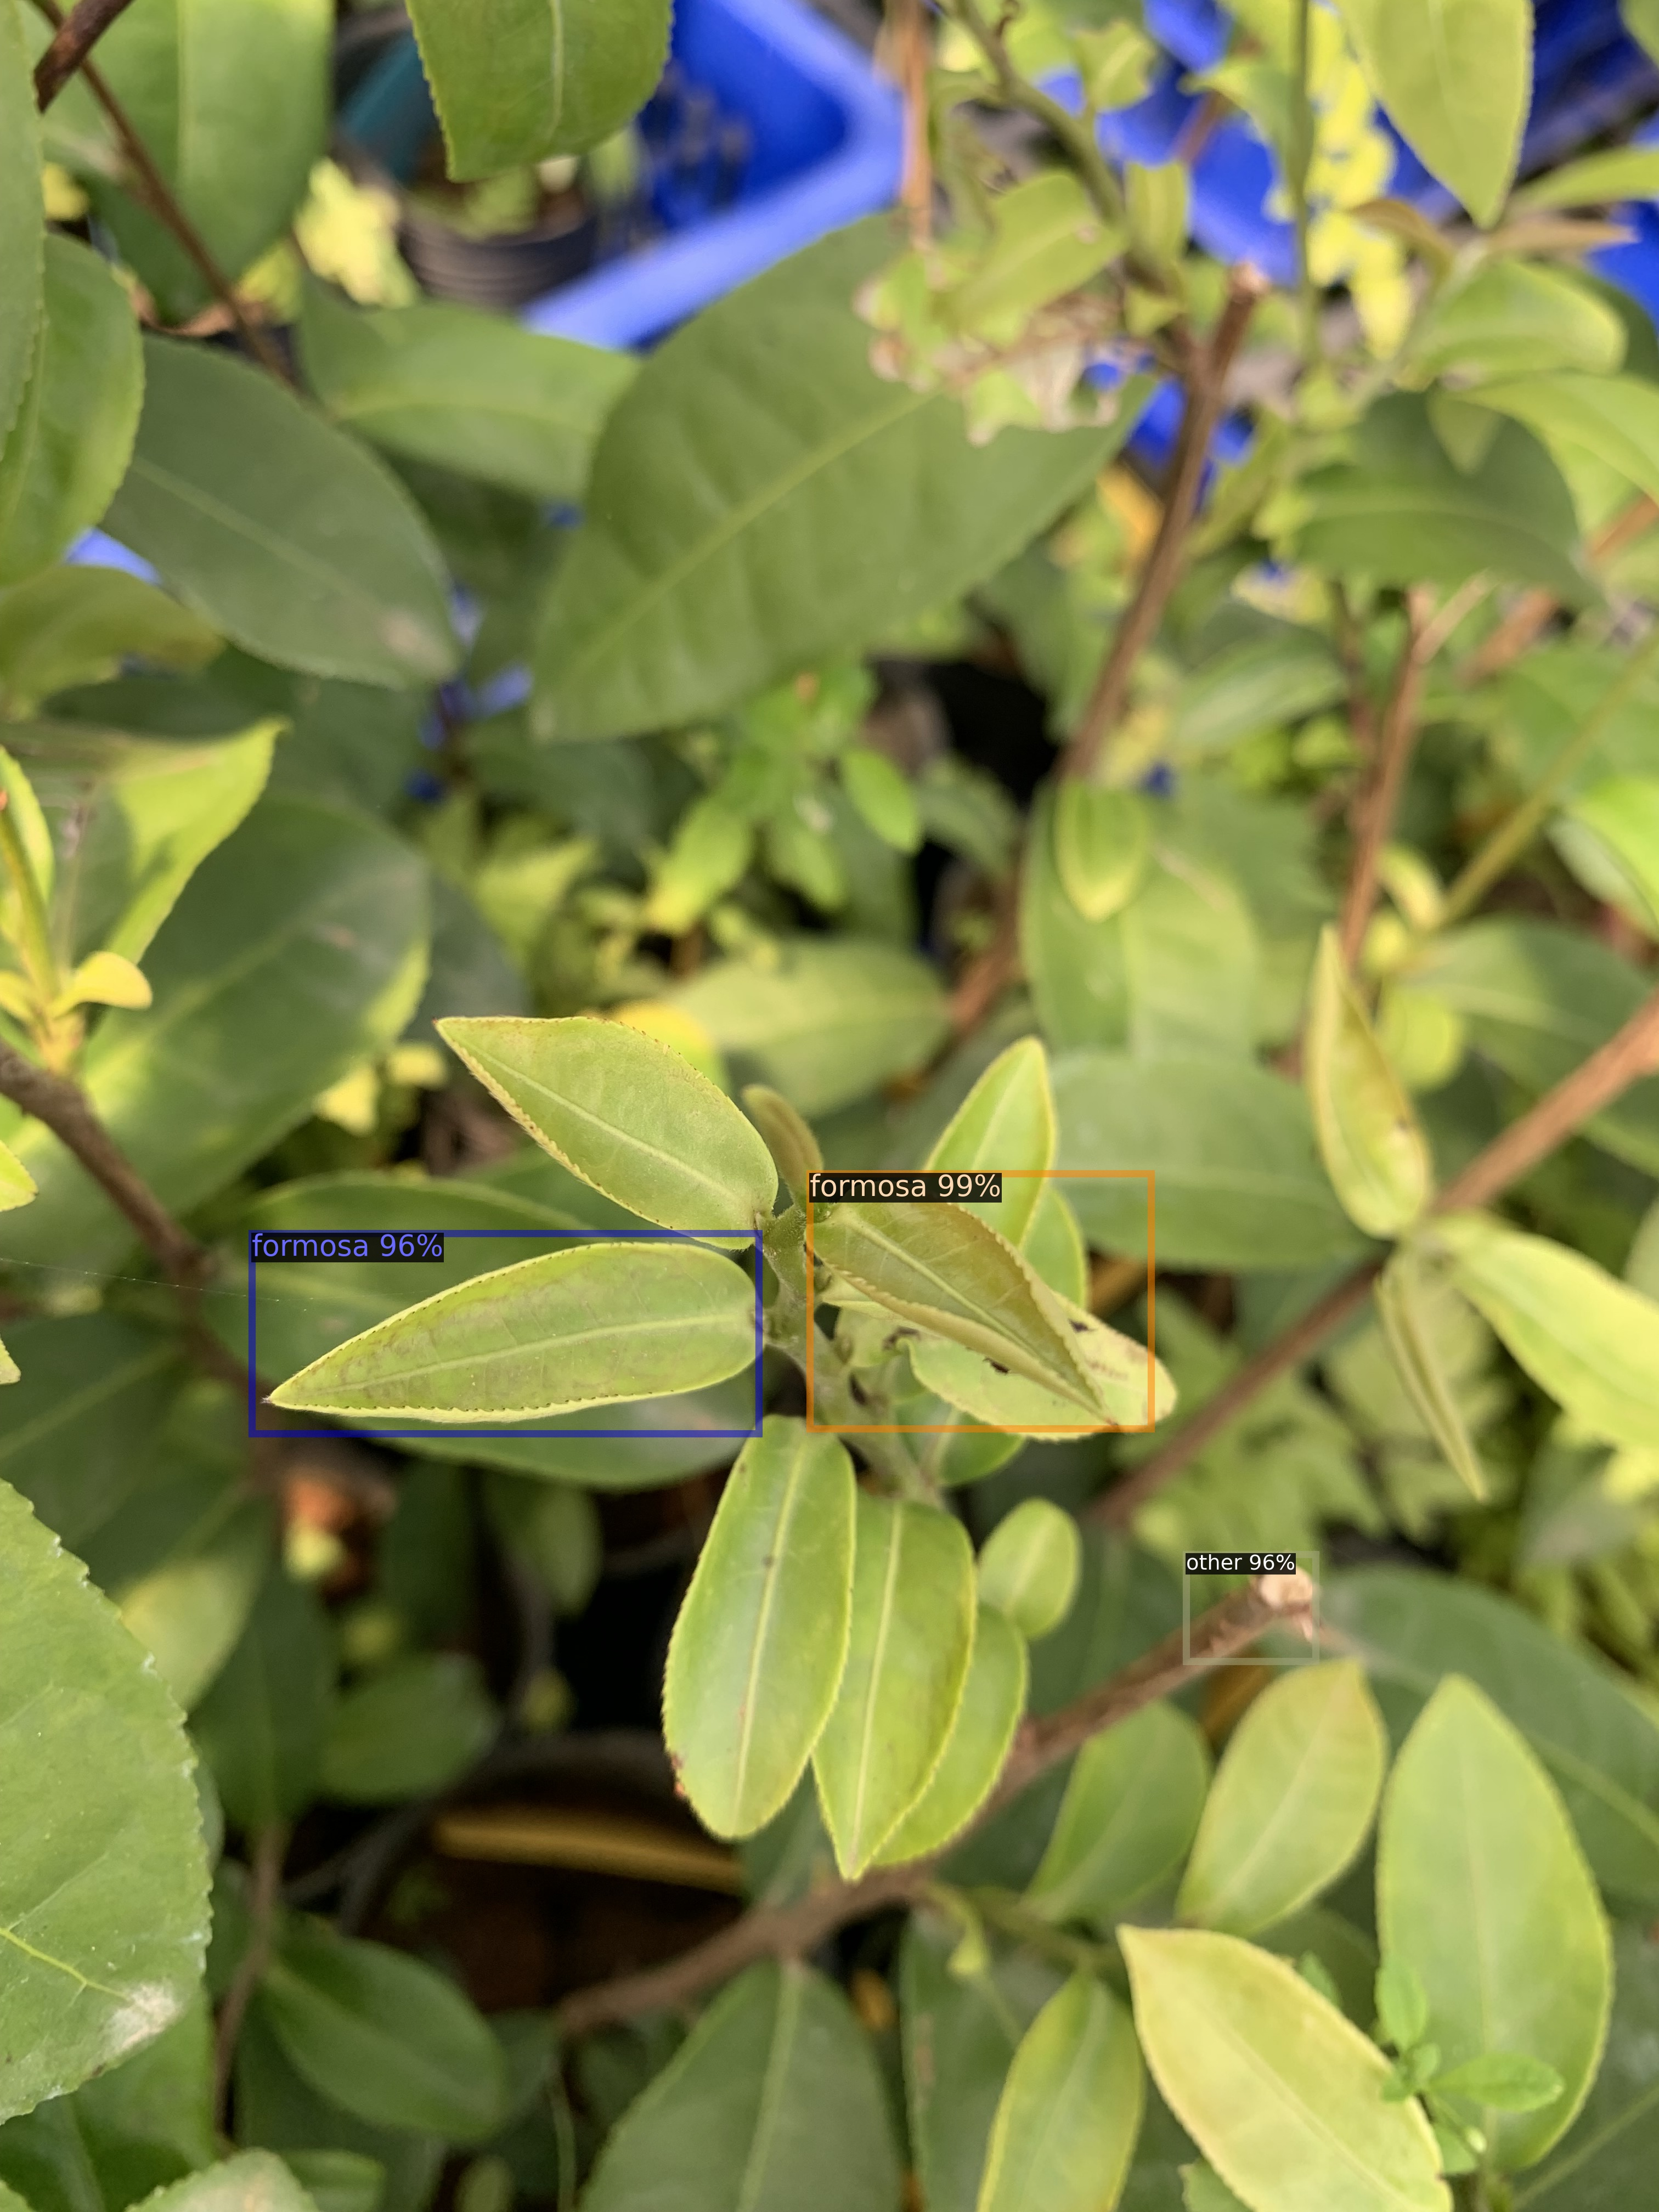formosa: (251, 1233, 758, 1433), (809, 1174, 1150, 1428)
other: (1187, 1554, 1316, 1660)
